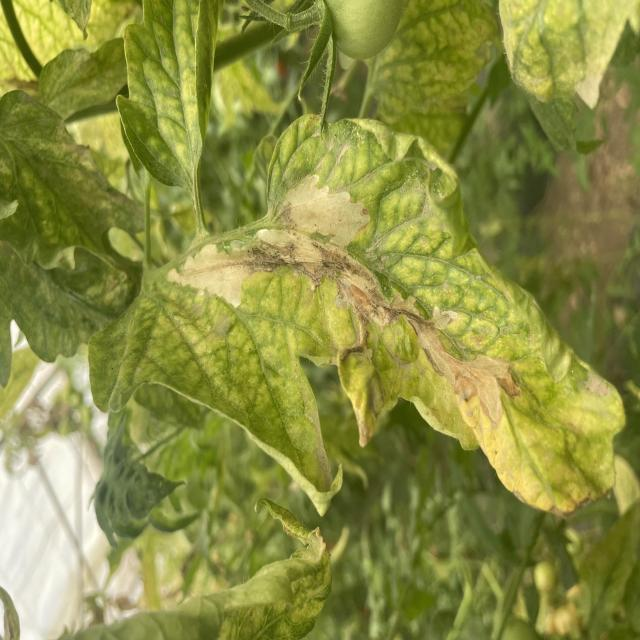Tuta absoluta: (169, 174, 380, 306), (405, 287, 539, 451)
